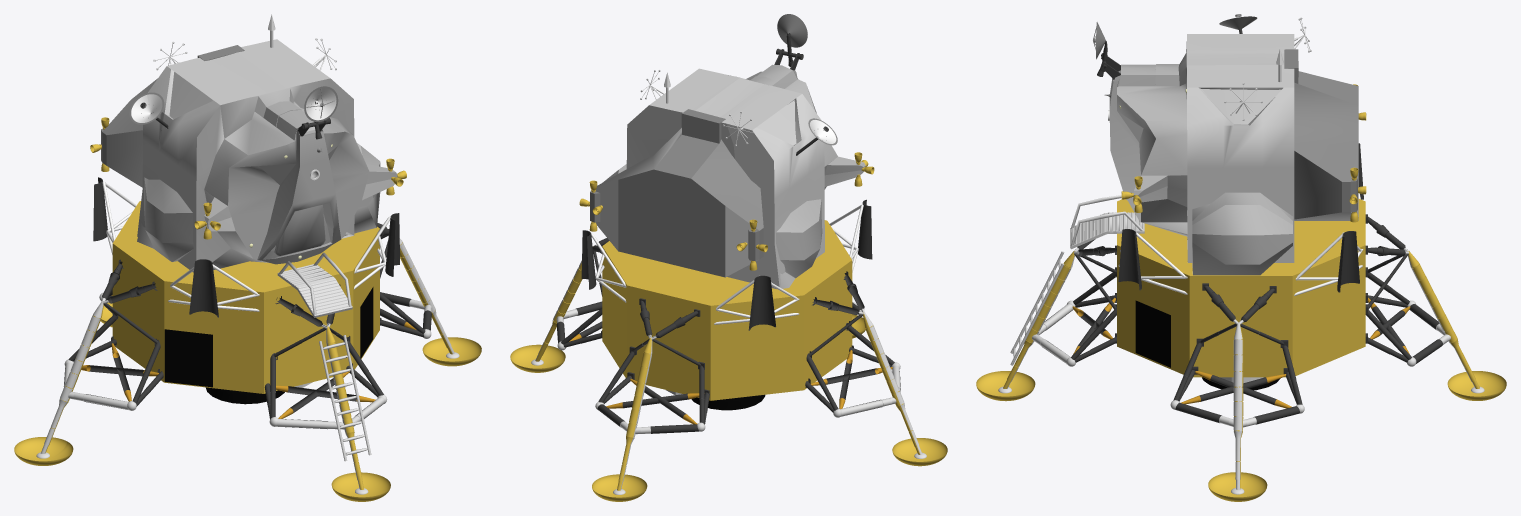
The model's file is apollo_lunar_module.glb.
The picture shows the model from 3 angles, left to right: view 1: azimuth 30°, elevation 25°; view 2: azimuth 150°, elevation 25°; view 3: azimuth 270°, elevation 25°; orthographic projection. The views are drawn at different scales.
Parts seen in each view (by area): view 1: lunarlande; view 2: lunarlande; view 3: lunarlande.
Part boxes in pixels (left/top/right/bottom): lunarlande: left=14, top=14, right=481, bottom=501; lunarlande: left=510, top=14, right=947, bottom=501; lunarlande: left=976, top=14, right=1506, bottom=501.
Size of the model in its own units: 6.43 by 5.01 by 6.43.
